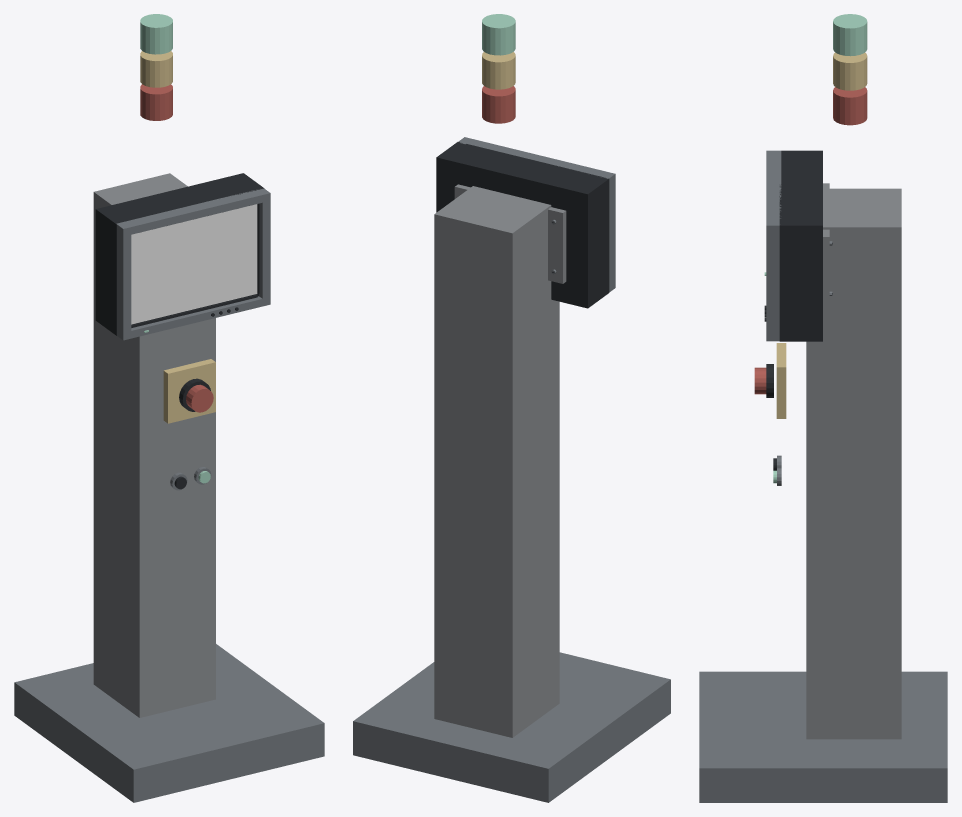
Rendered from PC_BX_TrialInterlock.fbx.
3 renders of one model, left to right at view 1: azimuth 30°, elevation 25°; view 2: azimuth 150°, elevation 25°; view 3: azimuth 270°, elevation 25°, orthographic. The views are drawn at different scales.
Visible parts, largest first — view 1: PC_BX_TrialInterlock; view 2: PC_BX_TrialInterlock; view 3: PC_BX_TrialInterlock.
Boxes of the visible parts, <box> form: PC_BX_TrialInterlock: <box>14,14,324,802</box>; PC_BX_TrialInterlock: <box>353,14,670,802</box>; PC_BX_TrialInterlock: <box>699,14,947,802</box>.
Bounding box in the file's own units: 60 × 212 × 65.
